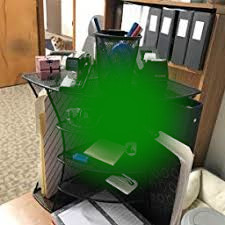focus: (49, 46, 192, 184)
